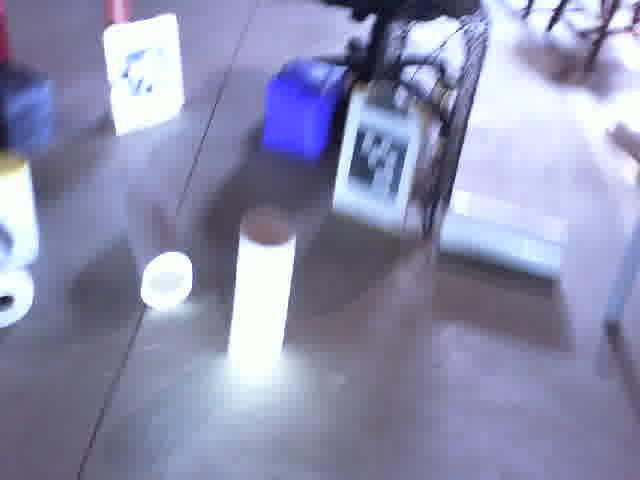coral: (228, 210, 296, 369), (121, 189, 193, 309)
